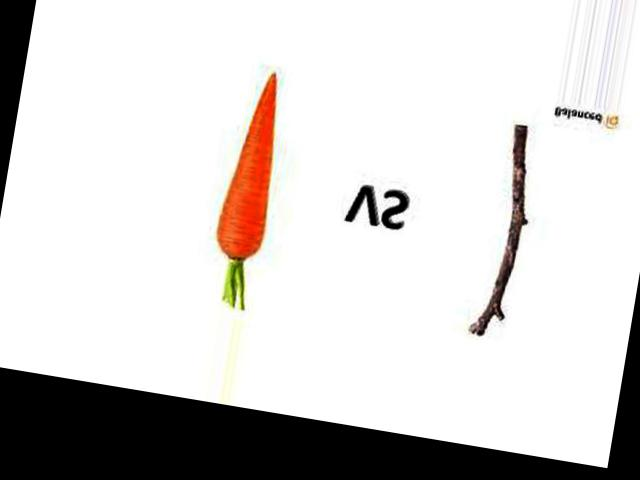carrot: (203, 61, 304, 270)
